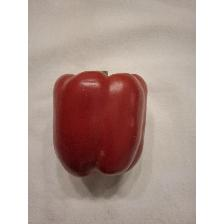Paprika: (51, 66, 150, 180)
